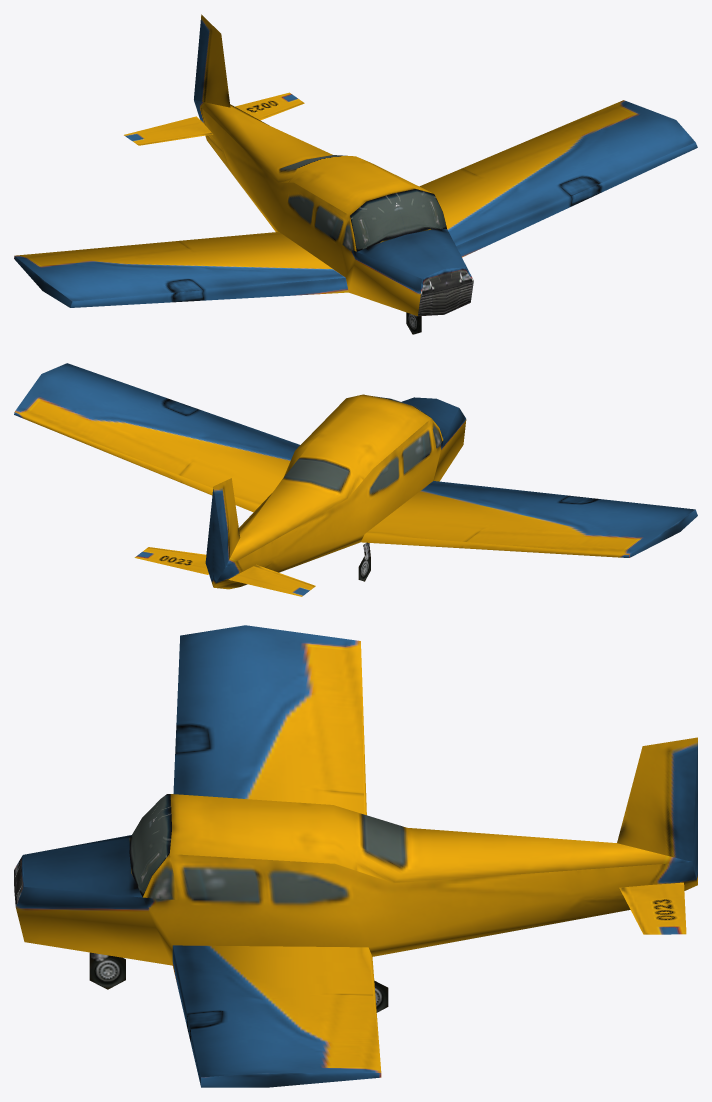
File: Plane_Parabole_A.FBX
3 renders of one model, top to bottom at view 1: azimuth 30°, elevation 25°; view 2: azimuth 150°, elevation 25°; view 3: azimuth 270°, elevation 25°, orthographic. The views are drawn at different scales.
Parts seen in each view (by area): view 1: City_Car_Avion_MESH; view 2: City_Car_Avion_MESH; view 3: City_Car_Avion_MESH.
Boxes of the visible parts, <box> form: City_Car_Avion_MESH: <box>14,14,697,334</box>; City_Car_Avion_MESH: <box>14,363,697,596</box>; City_Car_Avion_MESH: <box>14,625,697,1087</box>.
Size of the model in its own units: 15.82 by 4.04 by 10.15.
